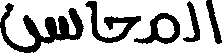ا: (203, 0, 220, 45), (90, 0, 99, 42)
ح: (102, 14, 141, 45)
س: (43, 5, 82, 43)
ل: (187, 0, 200, 43)
م: (148, 11, 181, 44)
ن: (0, 1, 41, 51)
